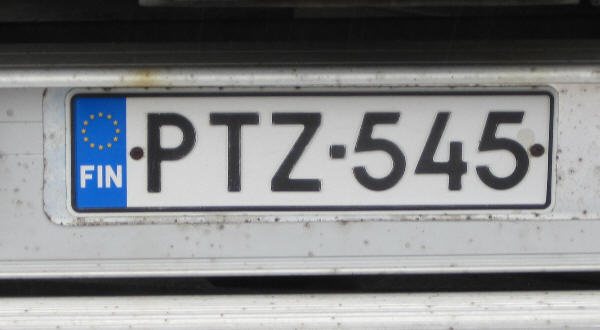license_plate: (63, 89, 554, 212)
